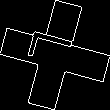L_E: (27, 34, 83, 76)
